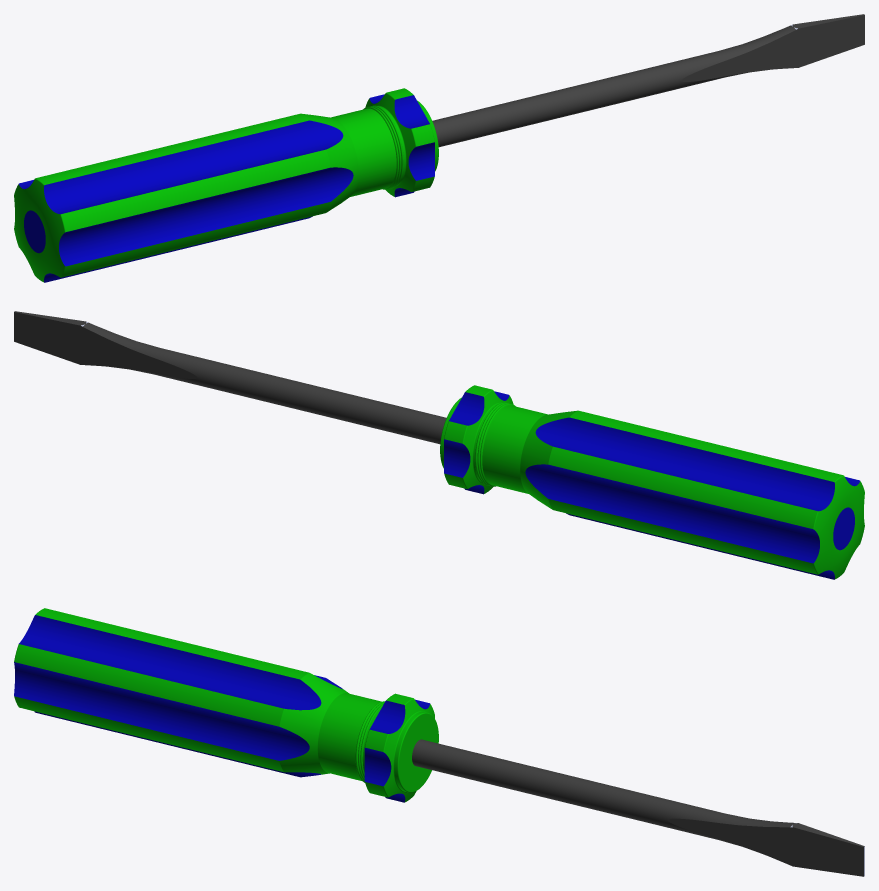
Rendered from screwdriver_1.obj.
The picture shows the model from 3 angles, top to bottom: view 1: azimuth 30°, elevation 25°; view 2: azimuth 150°, elevation 25°; view 3: azimuth 330°, elevation 25°; orthographic projection.
Visible parts, largest first — view 1: mesh71, mesh67, mesh1, mesh68, mesh9, mesh56, mesh83, mesh72, mesh60, mesh58, mesh44, mesh32 (+4 smaller); view 2: mesh79, mesh63, mesh1, mesh64, mesh7, mesh56, mesh83, mesh81, mesh60, mesh58, mesh44, mesh40 (+4 smaller); view 3: mesh71, mesh67, mesh1, mesh68, mesh9, mesh56, mesh72, mesh58, mesh60, mesh15, mesh19, mesh32 (+3 smaller).
Boxes of the visible parts, bbox=[...] form: mesh71: bbox=[59, 167, 353, 266]; mesh67: bbox=[44, 120, 343, 214]; mesh1: bbox=[432, 50, 727, 147]; mesh68: bbox=[61, 149, 330, 231]; mesh9: bbox=[681, 15, 864, 81]; mesh56: bbox=[331, 108, 396, 196]; mesh83: bbox=[14, 179, 64, 281]; mesh72: bbox=[61, 202, 330, 277]; mesh60: bbox=[36, 113, 309, 184]; mesh58: bbox=[301, 113, 358, 212]; mesh44: bbox=[365, 93, 415, 196]; mesh32: bbox=[408, 142, 434, 180]; mesh79: bbox=[525, 464, 819, 563]; mesh63: bbox=[535, 417, 834, 511]; mesh1: bbox=[151, 347, 446, 444]; mesh64: bbox=[548, 446, 817, 528]; mesh7: bbox=[14, 312, 197, 378]; mesh56: bbox=[482, 405, 547, 493]; mesh83: bbox=[814, 476, 864, 578]; mesh81: bbox=[548, 499, 817, 574]; mesh60: bbox=[569, 410, 842, 481]; mesh58: bbox=[520, 410, 577, 509]; mesh44: bbox=[463, 390, 513, 493]; mesh40: bbox=[444, 439, 470, 477]; mesh71: bbox=[14, 662, 309, 760]; mesh67: bbox=[19, 615, 321, 710]; mesh1: bbox=[412, 739, 724, 839]; mesh68: bbox=[14, 644, 283, 726]; mesh9: bbox=[668, 818, 863, 876]; mesh56: bbox=[318, 693, 381, 780]; mesh72: bbox=[14, 696, 283, 771]; mesh58: bbox=[279, 673, 348, 774]; mesh60: bbox=[36, 608, 308, 679]; mesh15: bbox=[399, 714, 438, 791]; mesh19: bbox=[384, 699, 434, 801]; mesh32: bbox=[364, 747, 391, 786].
Size of the model in its own units: 0.175 by 0.02 by 0.0188.
